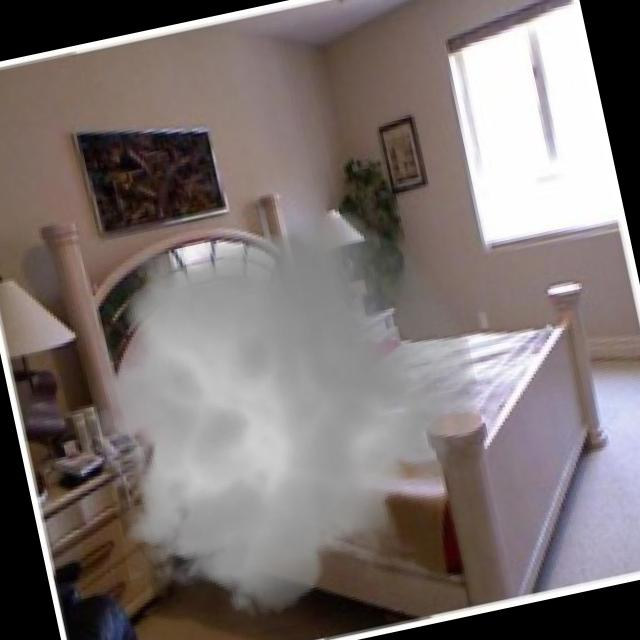Smoke: (43, 168, 531, 640)
